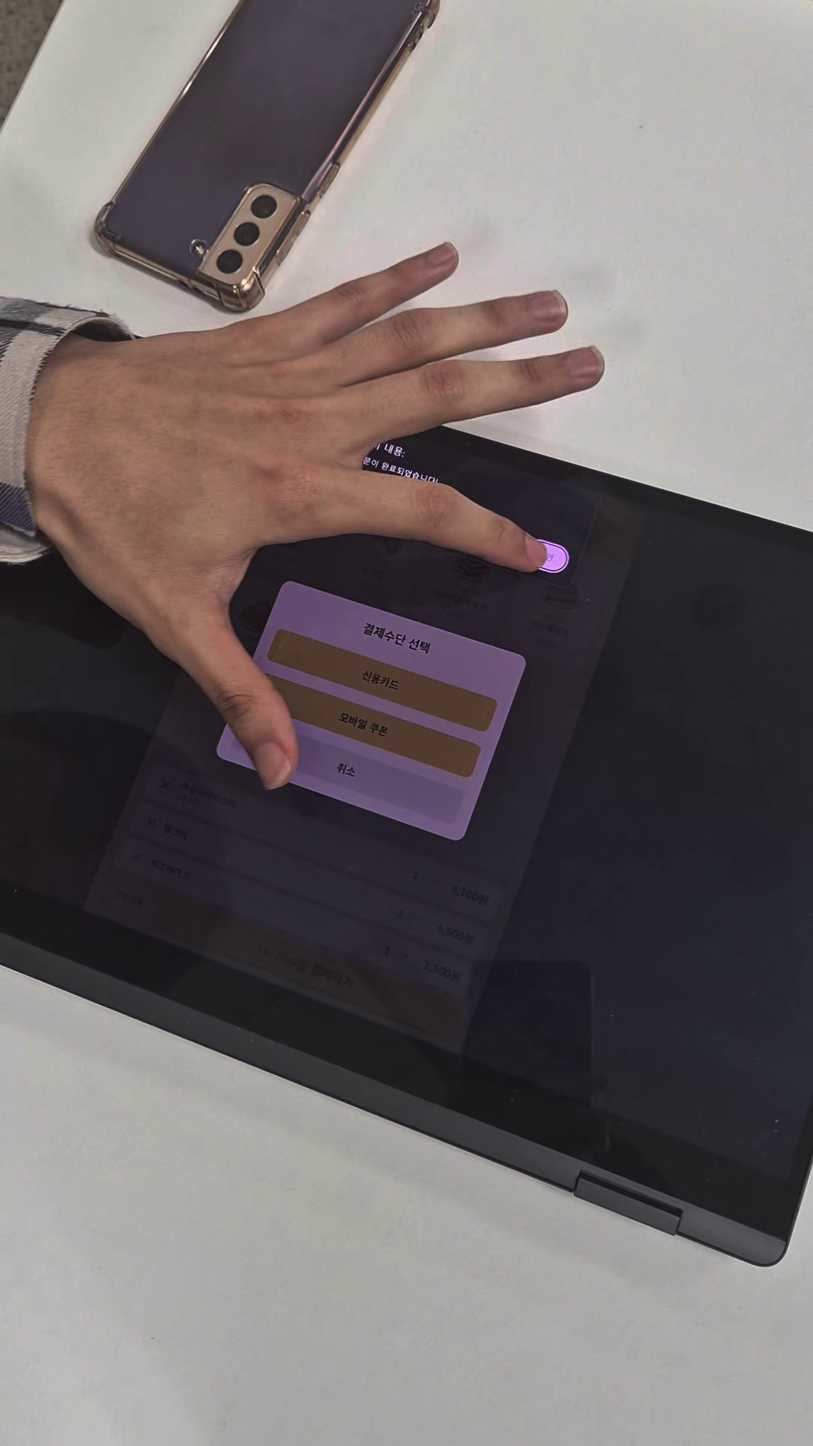action_button: (232, 716, 465, 826), (249, 672, 482, 780), (265, 627, 499, 734)
popup_modal: (213, 579, 529, 844)
